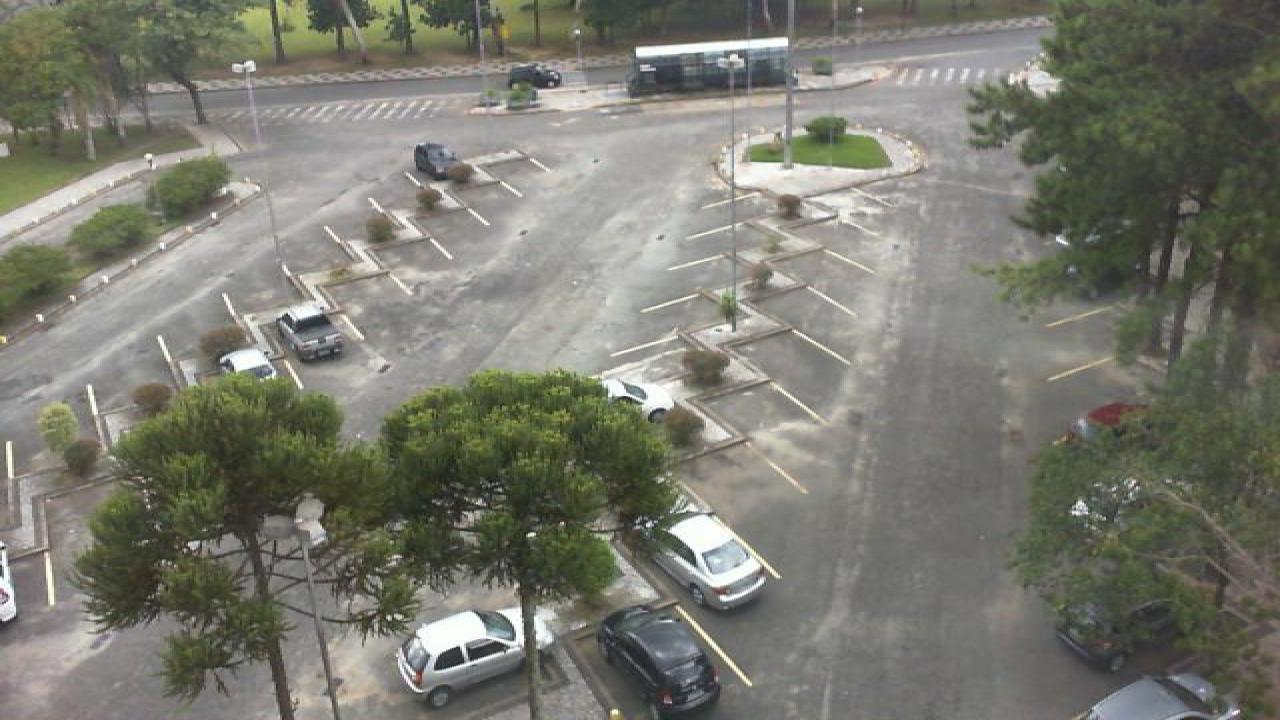Car: (598, 605, 722, 720), (394, 608, 528, 712), (638, 512, 770, 613), (1056, 592, 1182, 674), (1076, 673, 1242, 720), (276, 304, 346, 361), (600, 376, 678, 425), (1078, 401, 1162, 442), (218, 345, 280, 387), (412, 142, 458, 180), (0, 544, 20, 626)
